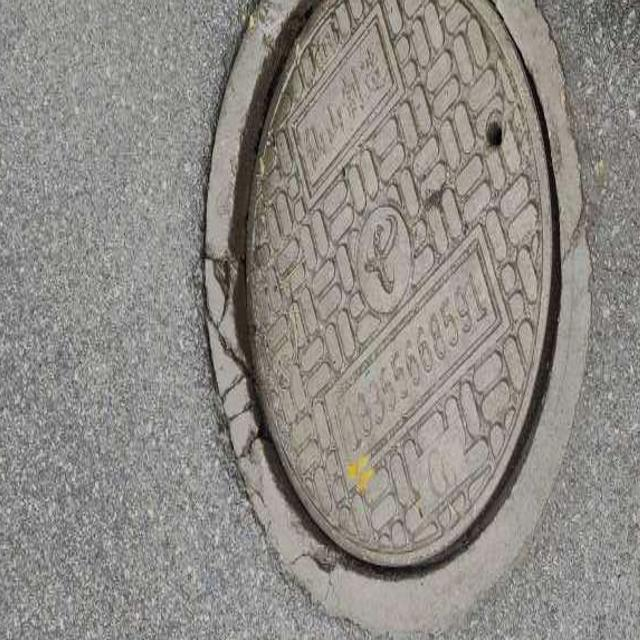circle: (134, 0, 623, 640)
